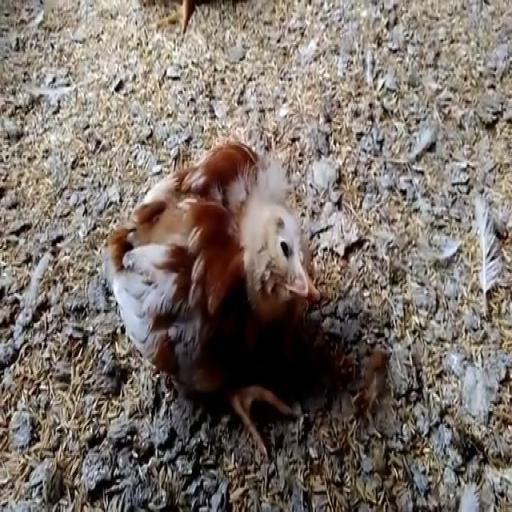disease: (262, 212, 312, 302)
